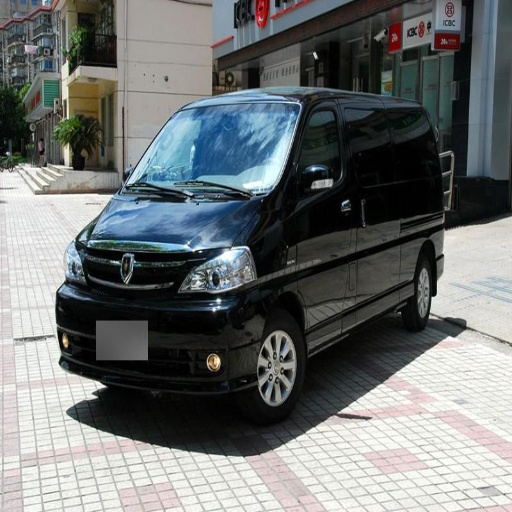front_bumper: (55, 247, 267, 395)
front_glass: (119, 100, 301, 198)
front_left_door: (294, 101, 378, 345)
trunk: (374, 216, 442, 254)
